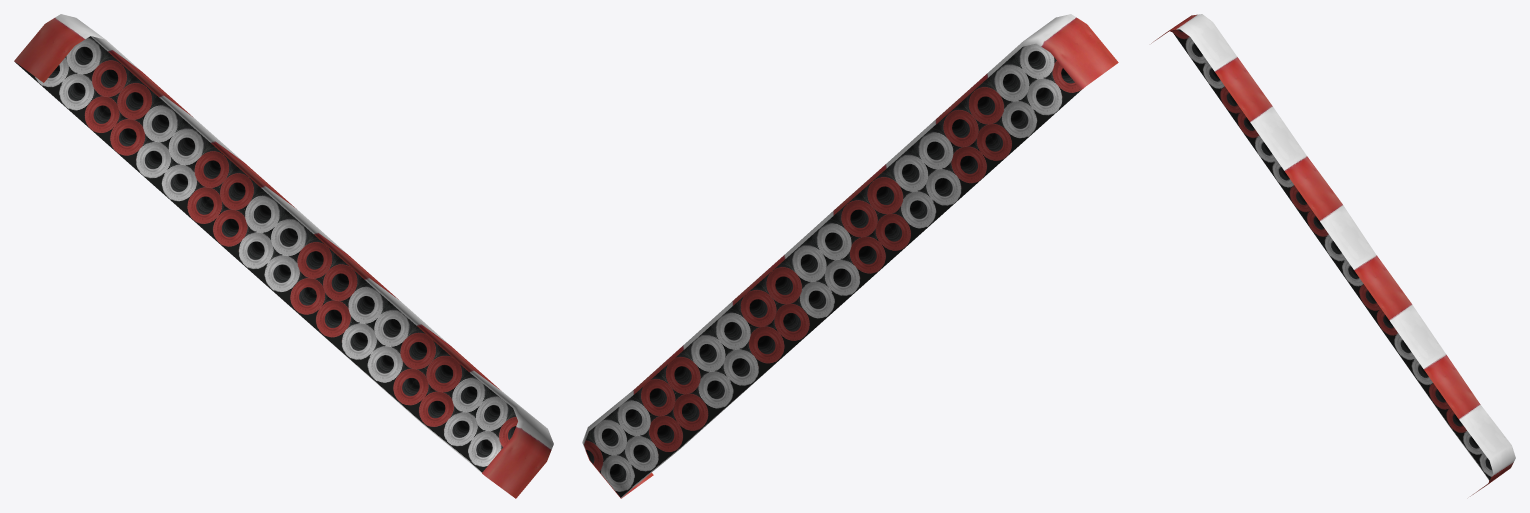
File: _1WALL_tires01_06.obj
3 views of the same model, side by side, from view 1: azimuth 30°, elevation 25°; view 2: azimuth 150°, elevation 25°; view 3: azimuth 330°, elevation 25° (orthographic). The views are drawn at different scales.
Parts seen in each view (by area): view 1: _1WALL_tires01_06_Scene.384; view 2: _1WALL_tires01_06_Scene.384; view 3: _1WALL_tires01_06_Scene.384.
Boxes of the visible parts, <box> form: _1WALL_tires01_06_Scene.384: <box>14,14,553,498</box>; _1WALL_tires01_06_Scene.384: <box>582,14,1118,498</box>; _1WALL_tires01_06_Scene.384: <box>1151,14,1515,496</box>.
Bounding box in the file's own units: 1036 × 1102 × 152.
